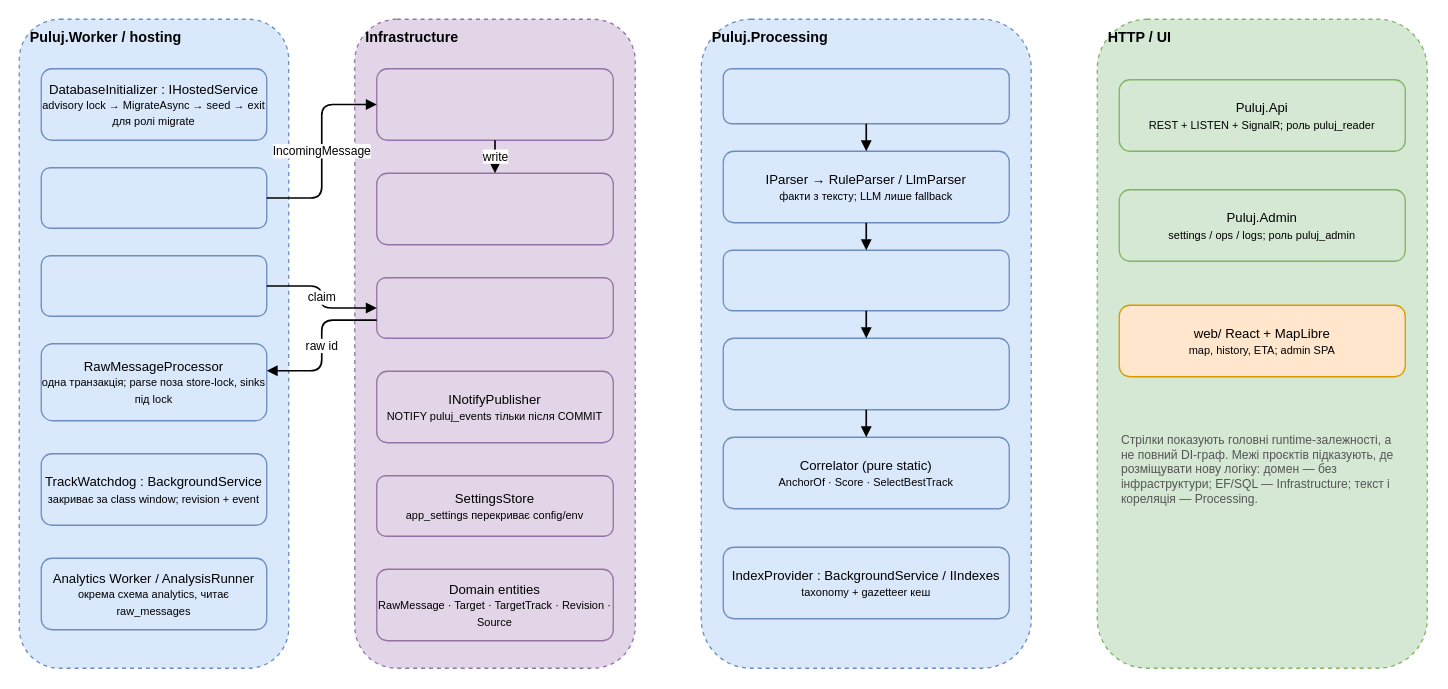
The diagram is 1448 pixels wide and 689 high, and some of its shapes have lost their labels. The centre of each missing label's shape, as x and y in pixels:
Collectors / Supervisor Telegram, AlertsInUa → IncomingMessage: point (153, 197)
INormalizer / Normalizer: point (865, 96)
ITargetSink DeduplicationSink · CorrelationSink · TextAlertSink: point (865, 373)
PulujDbContext : DbContext EF entities, migrations, configurations: point (494, 208)
RawMessageClaims Pending → InProgress, SKIP LOCKED: point (153, 285)
RawMessageIngestor idempotent INSERT … ON CONFLICT DO NOTHING: point (494, 104)
RawMessageQueue processor polling / wake-up: point (494, 307)
TargetBuilder ParsedFact → Target: point (865, 280)
